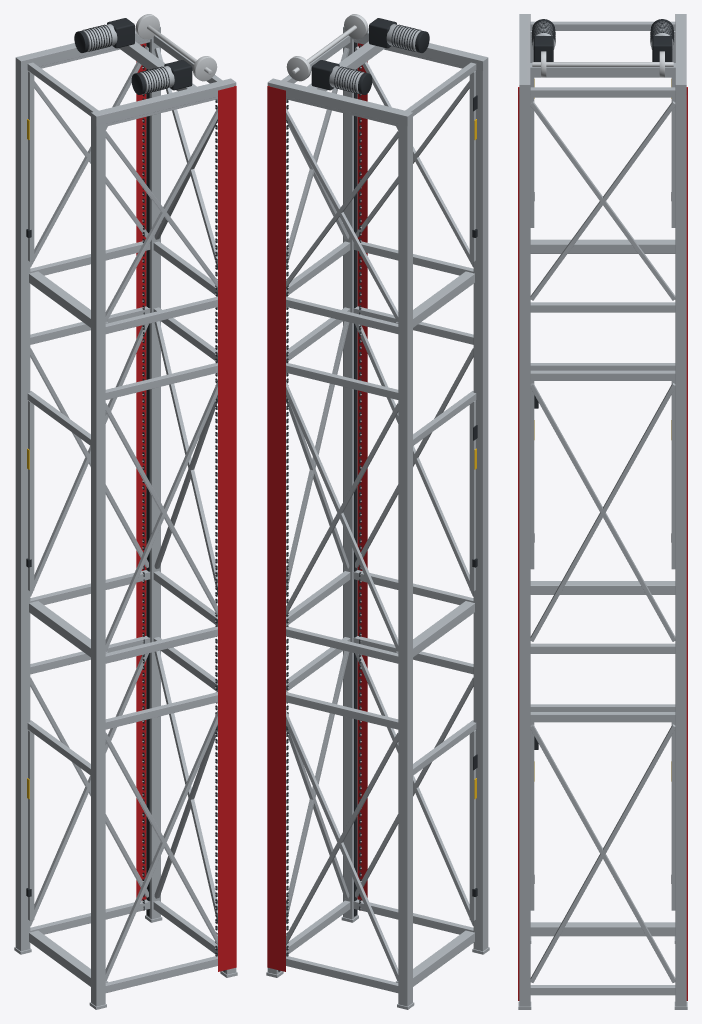
File: SM_PalletLift_FramePowered3.fbx
3 renders of one model, left to right at view 1: azimuth 30°, elevation 25°; view 2: azimuth 150°, elevation 25°; view 3: azimuth 270°, elevation 25°, orthographic. The views are drawn at different scales.
Parts seen in each view (by area): view 1: SM_PalletLift_FramePowered3; view 2: SM_PalletLift_FramePowered3; view 3: SM_PalletLift_FramePowered3.
Part boxes in pixels (<box>): SM_PalletLift_FramePowered3: <box>14,14,237,1009</box>; SM_PalletLift_FramePowered3: <box>266,14,489,1009</box>; SM_PalletLift_FramePowered3: <box>518,14,687,1009</box>.
Size of the model in its own units: 1.8 by 1.81 by 11.1.
